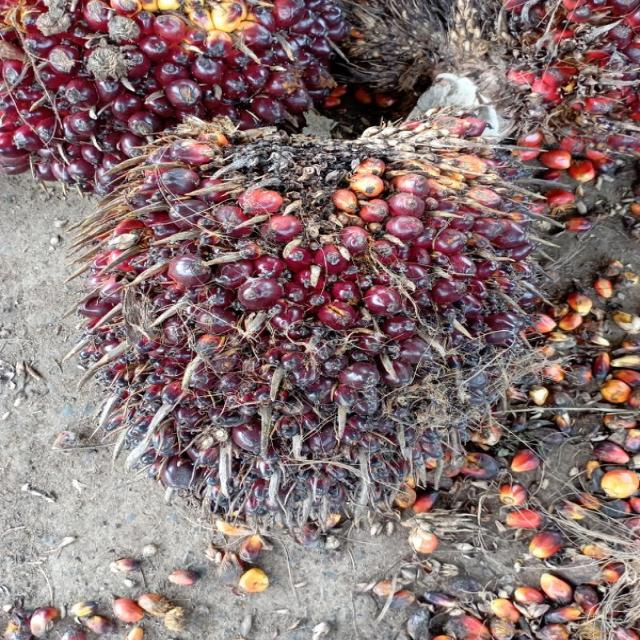fraksi 1: (81, 122, 544, 520)
